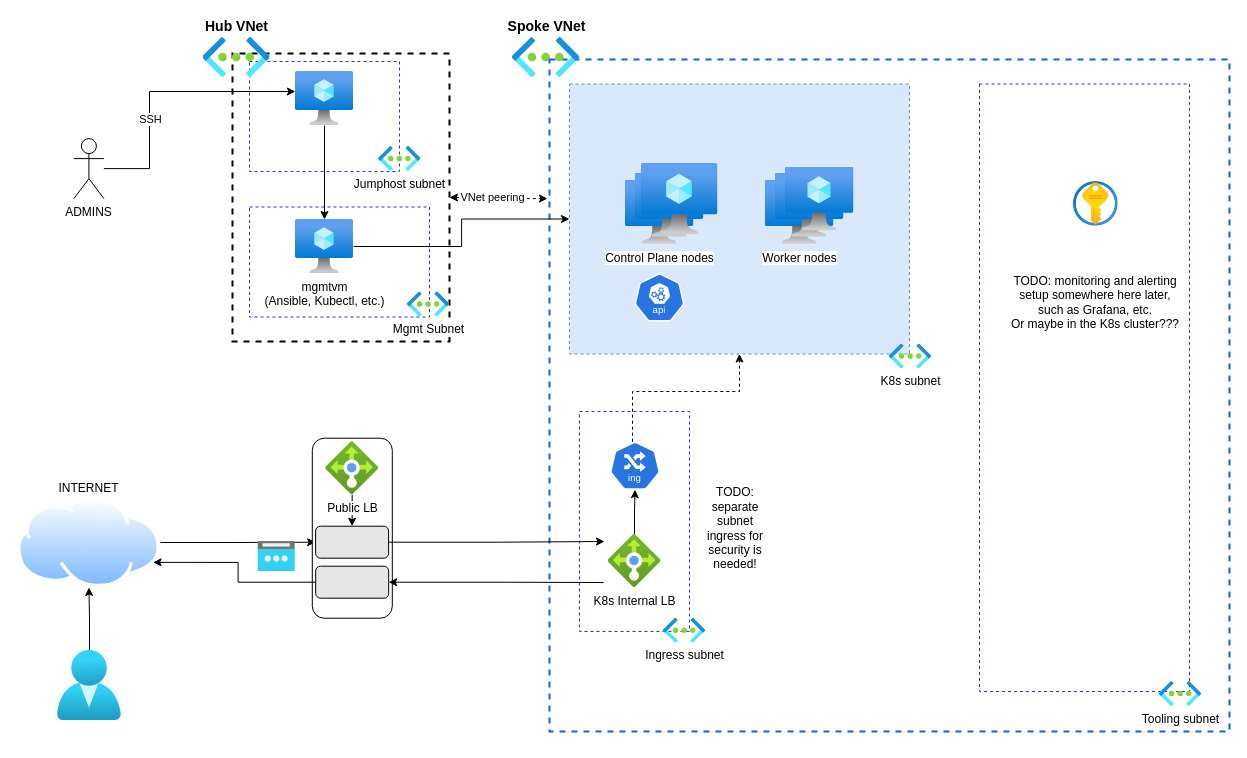
This 1247x758 diagram has some shape labels left out. Here are the shapes that lost their labels. From the top down, the box of each, then its label:
(295, 71, 353, 125): Platform JumpHost
(1073, 181, 1118, 226): Key vault
(257, 541, 295, 571): LB Public IP
(315, 525, 389, 558): INBOUD
(315, 565, 389, 598): OUTBOUND
(57, 650, 121, 720): USERS
